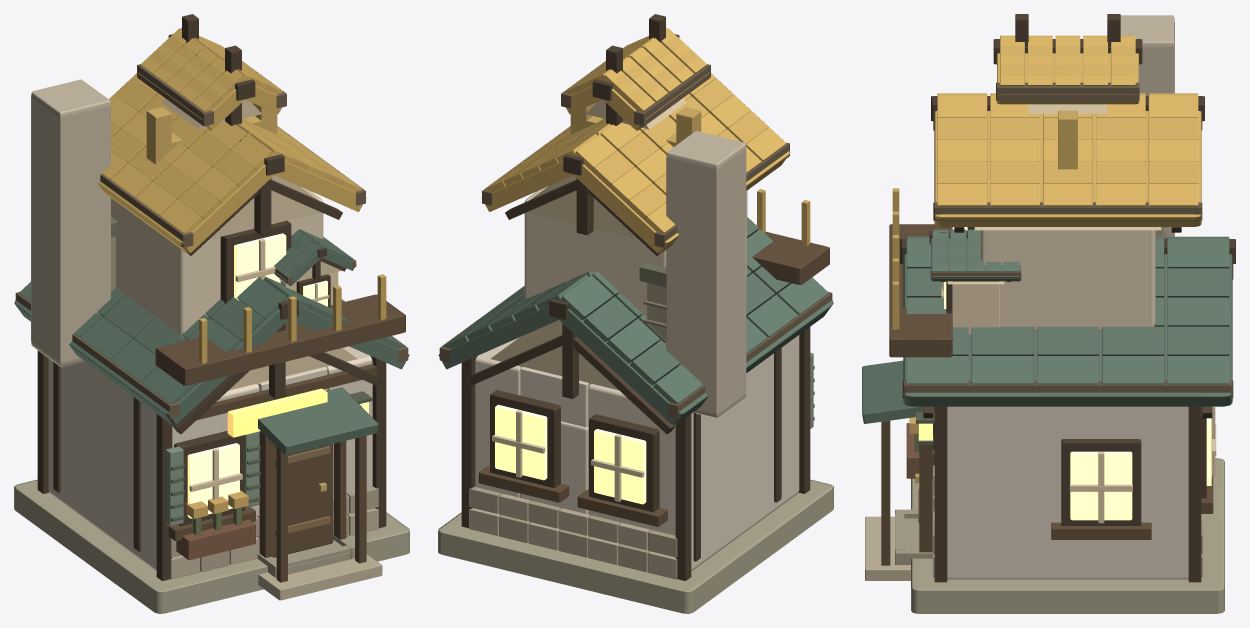
Rendered from workshop-4-1.glb.
3 renders of one model, left to right at view 1: azimuth 30°, elevation 25°; view 2: azimuth 150°, elevation 25°; view 3: azimuth 270°, elevation 25°, orthographic. The views are drawn at different scales.
Visible parts, largest first — view 1: workshop-1-4, door-hinge; view 2: workshop-1-4; view 3: workshop-1-4.
Part boxes in pixels (x1=…): workshop-1-4: x1=14, y1=14, x2=409, y2=613; door-hinge: x1=271, y1=442, x2=333, y2=557; workshop-1-4: x1=438, y1=14, x2=833, y2=613; workshop-1-4: x1=862, y1=14, x2=1235, y2=613.
Bounding box in the file's own units: 1.91 × 3.51 × 2.24.
